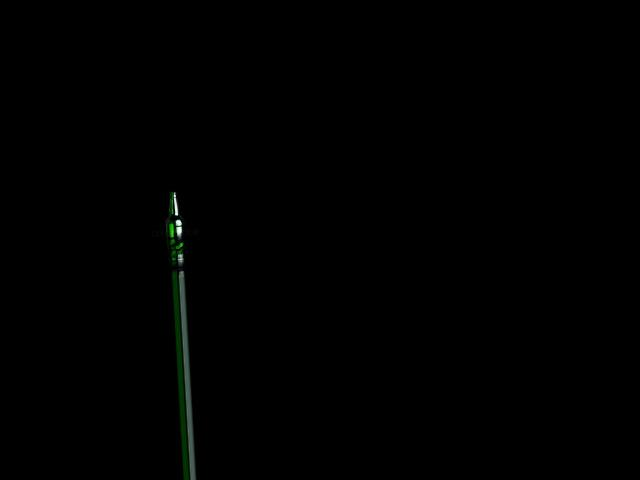beer: (163, 191, 184, 261)
